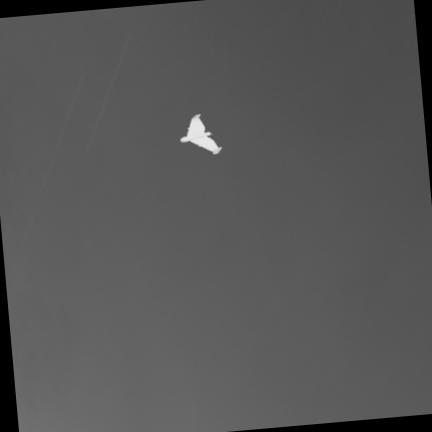Shahed: (180, 115, 220, 154)
